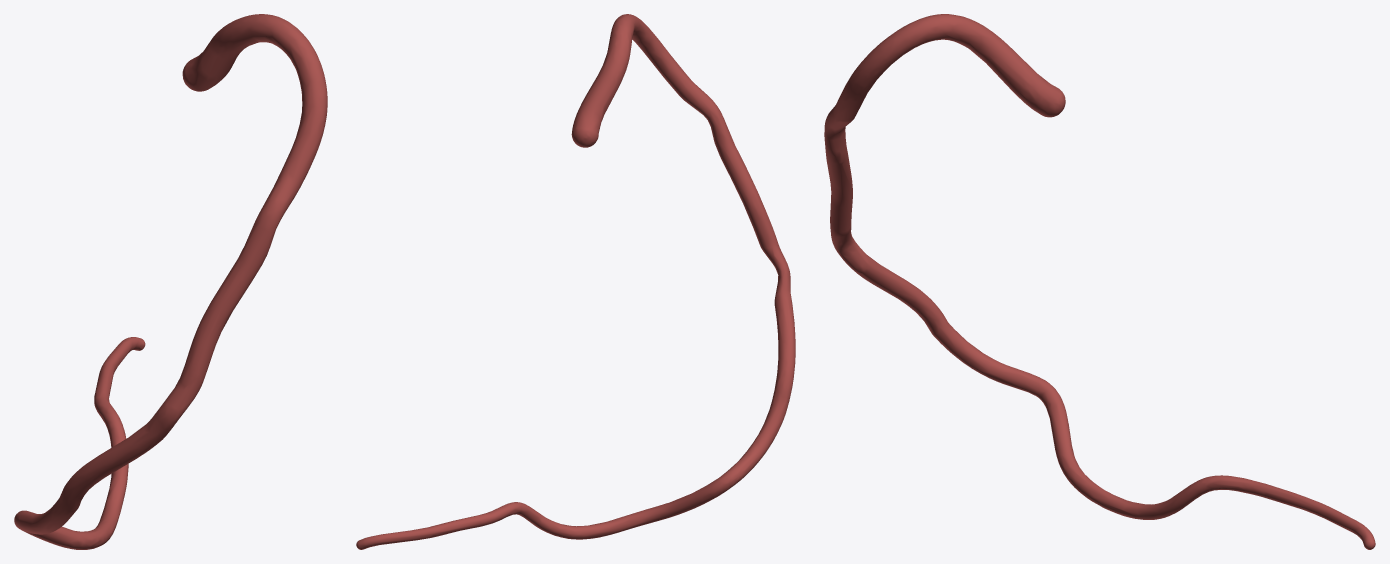
The model's file is FMA3802.glb.
The picture shows the model from 3 angles, left to right: view 1: azimuth 30°, elevation 25°; view 2: azimuth 150°, elevation 25°; view 3: azimuth 270°, elevation 25°; orthographic projection. The views are drawn at different scales.
Parts seen in each view (by area): view 1: FMA3802; view 2: FMA3802; view 3: FMA3802.
Part boxes in pixels (<box>): FMA3802: <box>14,14,327,549</box>; FMA3802: <box>356,14,795,549</box>; FMA3802: <box>824,14,1375,549</box>.
Size of the model in its own units: 0.0425 by 0.0731 by 0.0692.
